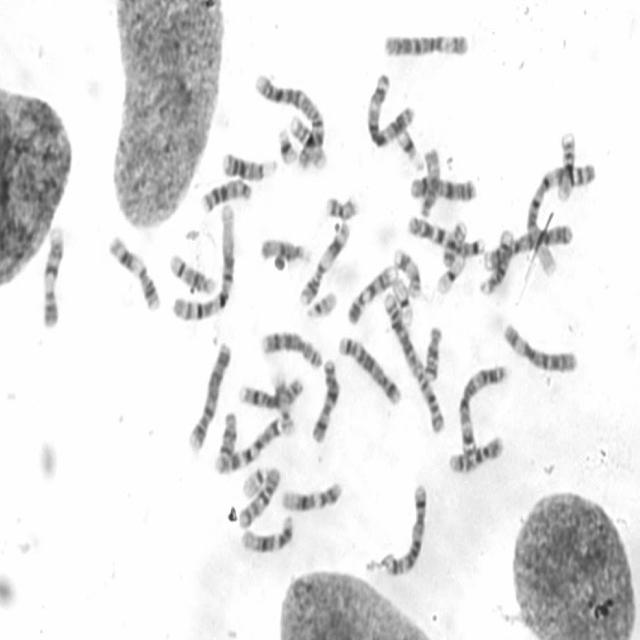A1: (524, 161, 597, 280), (170, 202, 237, 324)
A2: (381, 291, 445, 435), (253, 73, 326, 173)
A3: (457, 363, 508, 459), (367, 69, 416, 150)
B4: (186, 342, 232, 456), (482, 223, 574, 272)
B5: (339, 335, 402, 407), (383, 484, 427, 578)
C10: (237, 466, 281, 532), (445, 437, 506, 476)
C11: (298, 218, 352, 307), (108, 235, 162, 314)
C12: (240, 515, 293, 555), (279, 481, 342, 514)
C6: (503, 322, 580, 373), (380, 31, 471, 60)
C7: (408, 215, 486, 256), (226, 417, 284, 472)
C8: (260, 330, 324, 371), (238, 378, 305, 412)
C9: (348, 262, 400, 326), (41, 224, 67, 331)
D13: (200, 177, 254, 216), (221, 151, 278, 182)
D14: (477, 225, 515, 297), (169, 253, 219, 297)
D15: (417, 145, 442, 219), (260, 236, 314, 264)
E16: (288, 114, 328, 170), (555, 128, 577, 204)
E17: (271, 372, 297, 438), (392, 246, 423, 299)
E18: (213, 410, 238, 476), (422, 324, 442, 384)
F19: (435, 252, 467, 296), (391, 276, 415, 328)
F20: (441, 219, 468, 268), (324, 195, 361, 222)
G21: (397, 129, 426, 172), (275, 126, 299, 167)
G22: (238, 466, 270, 505), (305, 290, 338, 318)
X: (308, 358, 342, 446), (411, 173, 478, 204)
